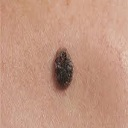Melanoma: (54, 44, 80, 91)
